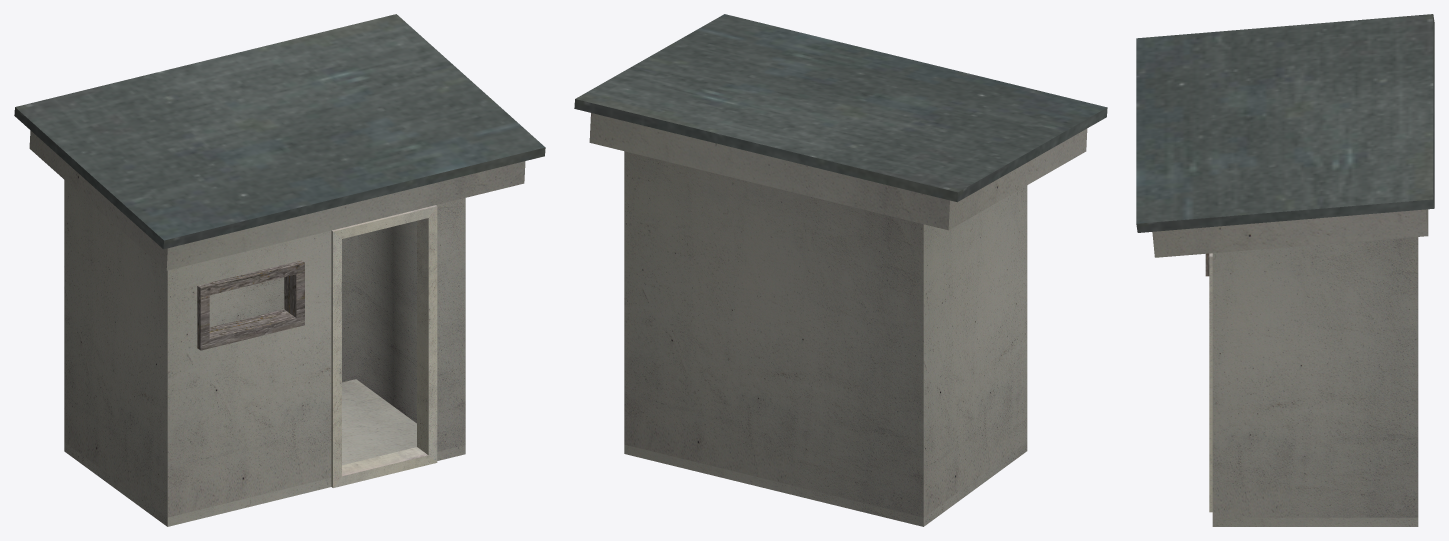
File: Small house.FBX
The picture shows the model from 3 angles, left to right: view 1: azimuth 30°, elevation 25°; view 2: azimuth 150°, elevation 25°; view 3: azimuth 270°, elevation 25°; orthographic projection.
Visible parts, largest first — view 1: Box002; view 2: Box002; view 3: Box002.
Part boxes in pixels (x1,y1,x2,y2): Box002: (14, 14, 545, 526); Box002: (574, 14, 1107, 526); Box002: (1136, 14, 1434, 526).
Bounding box in the file's own units: 128 × 112 × 86.99.
